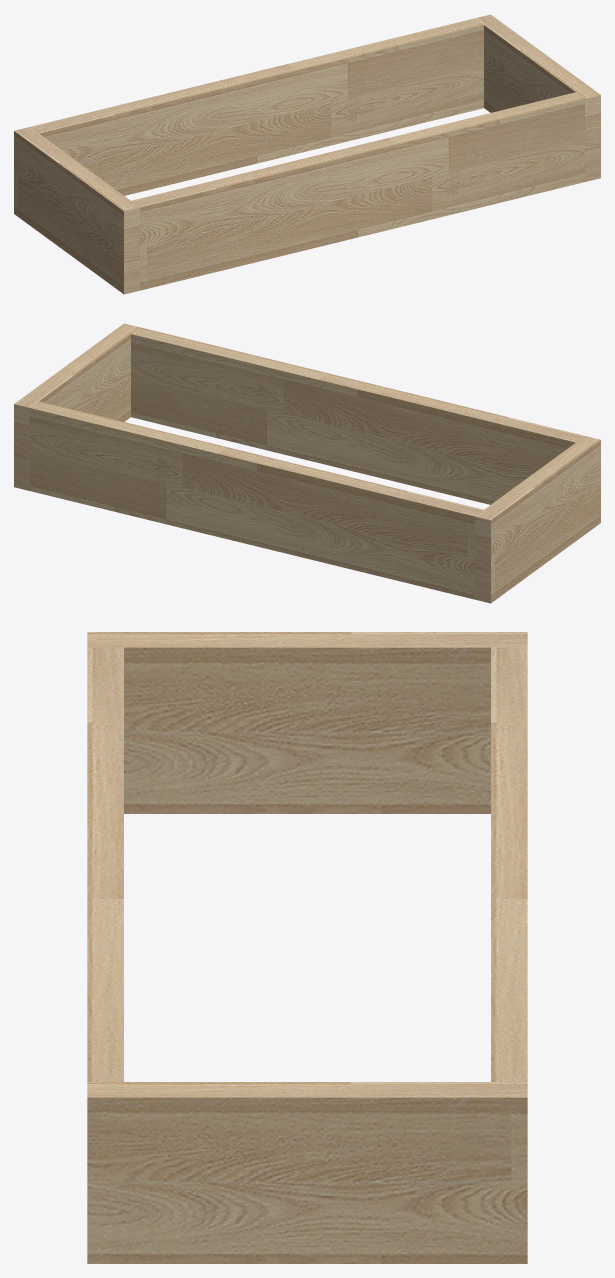
3 renders of one model, top to bottom at view 1: azimuth 30°, elevation 25°; view 2: azimuth 150°, elevation 25°; view 3: azimuth 270°, elevation 25°, orthographic. The views are drawn at different scales.
Visible parts, largest first — view 1: Sokkel front_back.005; view 2: Sokkel front_back.005; view 3: Sokkel front_back.005.
Part boxes in pixels (left/top/right/bottom): Sokkel front_back.005: left=14, top=14, right=600, bottom=294; Sokkel front_back.005: left=14, top=323, right=600, bottom=603; Sokkel front_back.005: left=87, top=632, right=527, bottom=1263.
Bounding box in the file's own units: 0.6 × 0.1 × 0.24.
Materials: 1 (1 with a texture image).
